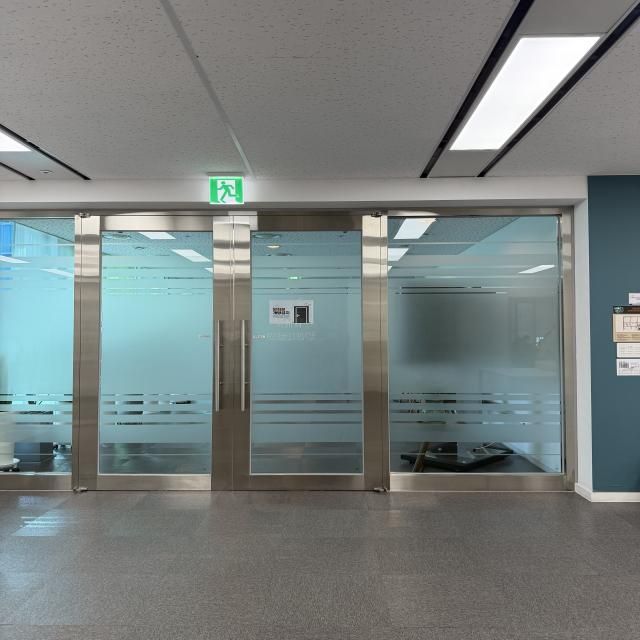front_door: (0, 203, 571, 497)
